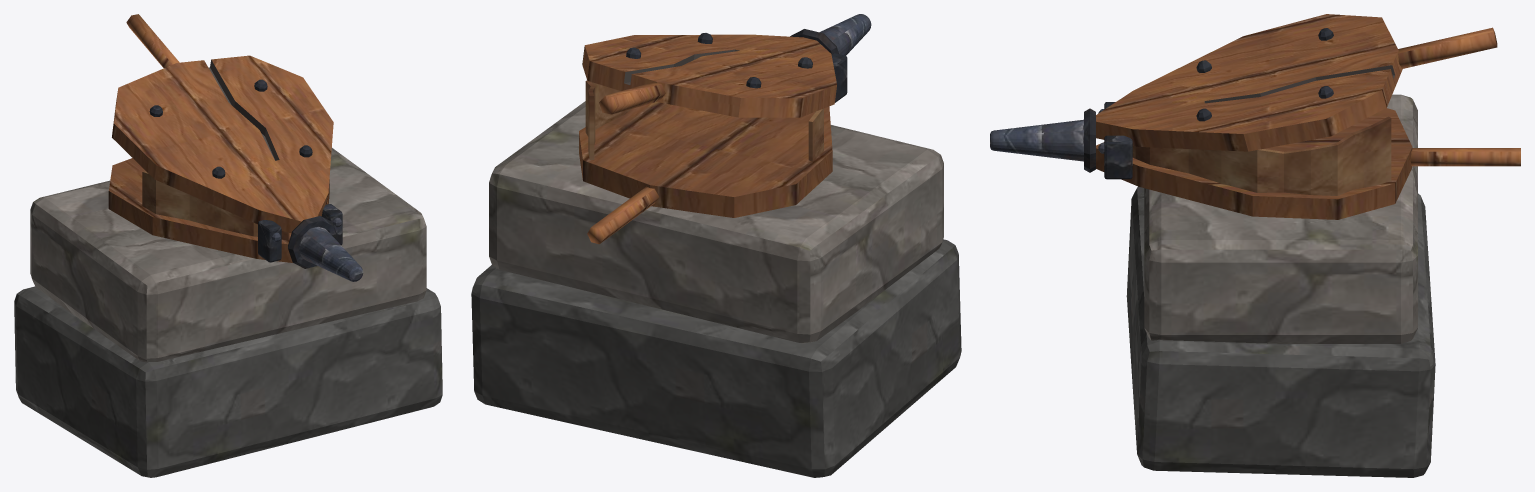
The model's file is forge_bellows_broken.glb.
3 views of the same model, side by side, from view 1: azimuth 30°, elevation 25°; view 2: azimuth 150°, elevation 25°; view 3: azimuth 270°, elevation 25° (orthographic). The views are drawn at different scales.
Visible parts, largest first — view 1: model; view 2: model; view 3: model.
Part boxes in pixels (x1,y1,x2,y2): model: [14, 14, 442, 477]; model: [471, 14, 961, 477]; model: [990, 14, 1520, 477].
Bounding box in the file's own units: 0.7207 × 0.7178 × 0.93.
9 materials, 8 textured.
